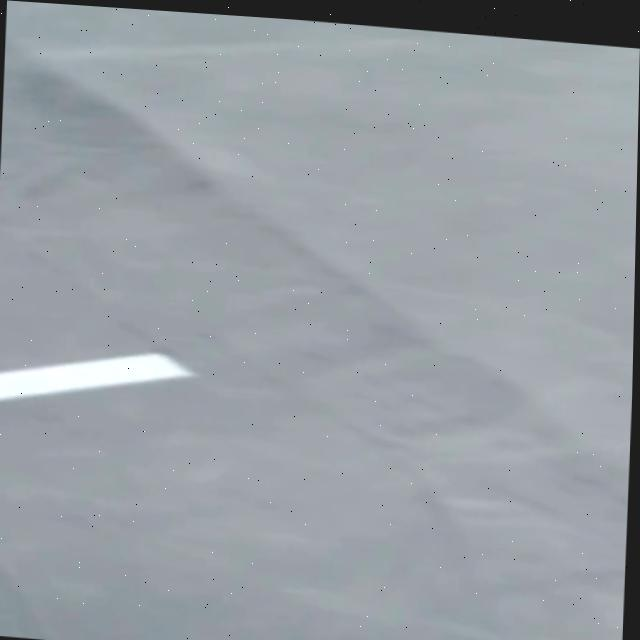center: (0, 352, 193, 399)
